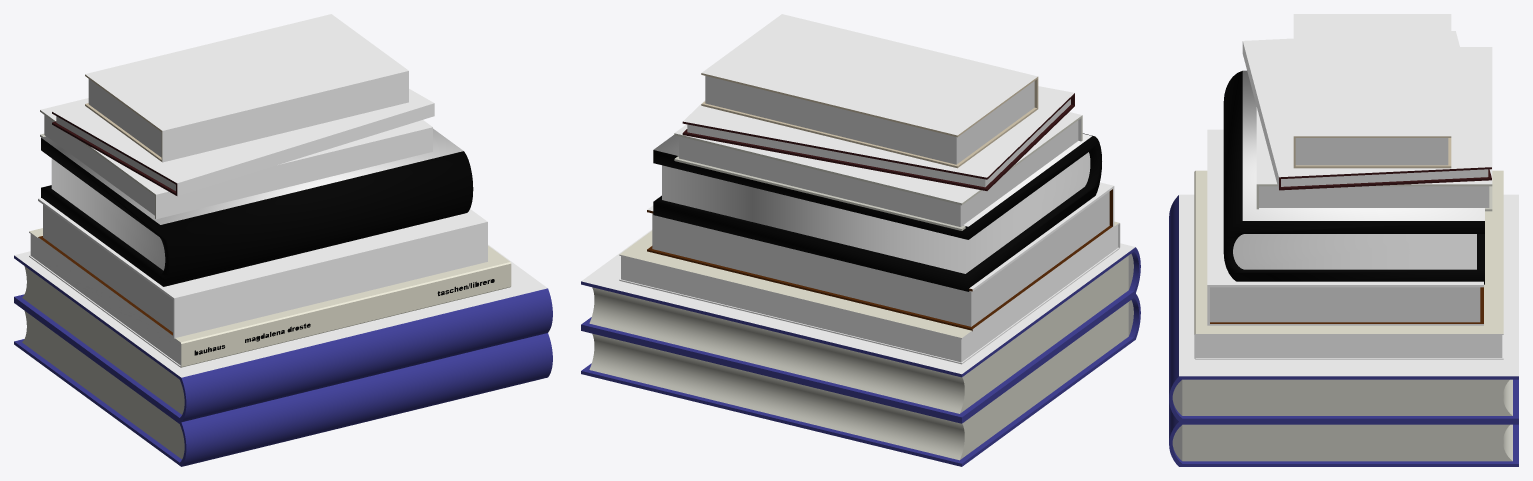
3 views of the same model, side by side, from view 1: azimuth 30°, elevation 25°; view 2: azimuth 150°, elevation 25°; view 3: azimuth 270°, elevation 25° (orthographic). The views are drawn at different scales.
Visible parts, largest first — view 1: Algebra 2 Book and a Pen_001, book marihuana_001, Component#194_001, Component#187_001, BAUHAUS Book_001, Component#191_001, Component#190_001, Component#186_001, Component#189_001, Component#193_001, Component#192_001; view 2: Algebra 2 Book and a Pen_001, book marihuana_001, Component#194_001, BAUHAUS Book_001, Component#186_001, Component#193_001, Component#189_001, Component#191_001, Component#190_001, Component#187_001, Component#192_001; view 3: Algebra 2 Book and a Pen_001, book marihuana_001, Component#194_001, BAUHAUS Book_001, Component#191_001, Component#186_001, Component#187_001, Component#189_001, Component#193_001, Component#190_001, Component#192_001.
Part boxes in pixels (x1,y1,x2,y2): Algebra 2 Book and a Pen_001: (14,244,552,466); book marihuana_001: (41,128,473,286); Component#194_001: (85,14,408,162); Component#187_001: (38,198,487,338); BAUHAUS Book_001: (29,228,511,367); Component#191_001: (52,89,434,196); Component#190_001: (40,98,432,219); Component#186_001: (43,205,172,332); Component#189_001: (44,115,154,215); Component#193_001: (88,79,161,157); Component#192_001: (56,116,175,190); Algebra 2 Book and a Pen_001: (581,229,1140,466); book marihuana_001: (653,133,1101,291); Component#194_001: (701,14,1038,168); BAUHAUS Book_001: (619,221,1120,364); Component#186_001: (652,191,1109,326); Component#193_001: (705,76,1034,164); Component#189_001: (679,120,1078,226); Component#191_001: (682,86,1074,190); Component#190_001: (674,112,1082,230); Component#187_001: (647,182,1114,331); Component#192_001: (687,99,1070,187); Algebra 2 Book and a Pen_001: (1169,194,1518,466); book marihuana_001: (1223,70,1484,284); Component#194_001: (1293,14,1451,168); BAUHAUS Book_001: (1194,170,1503,359); Component#191_001: (1242,31,1491,190); Component#186_001: (1210,287,1480,322); Component#187_001: (1207,129,1483,325); Component#189_001: (1259,186,1489,207); Component#193_001: (1295,138,1448,165); Component#190_001: (1256,47,1492,211); Component#192_001: (1281,169,1488,186).
Bounding box in the file's own units: 333 × 248 × 271.
